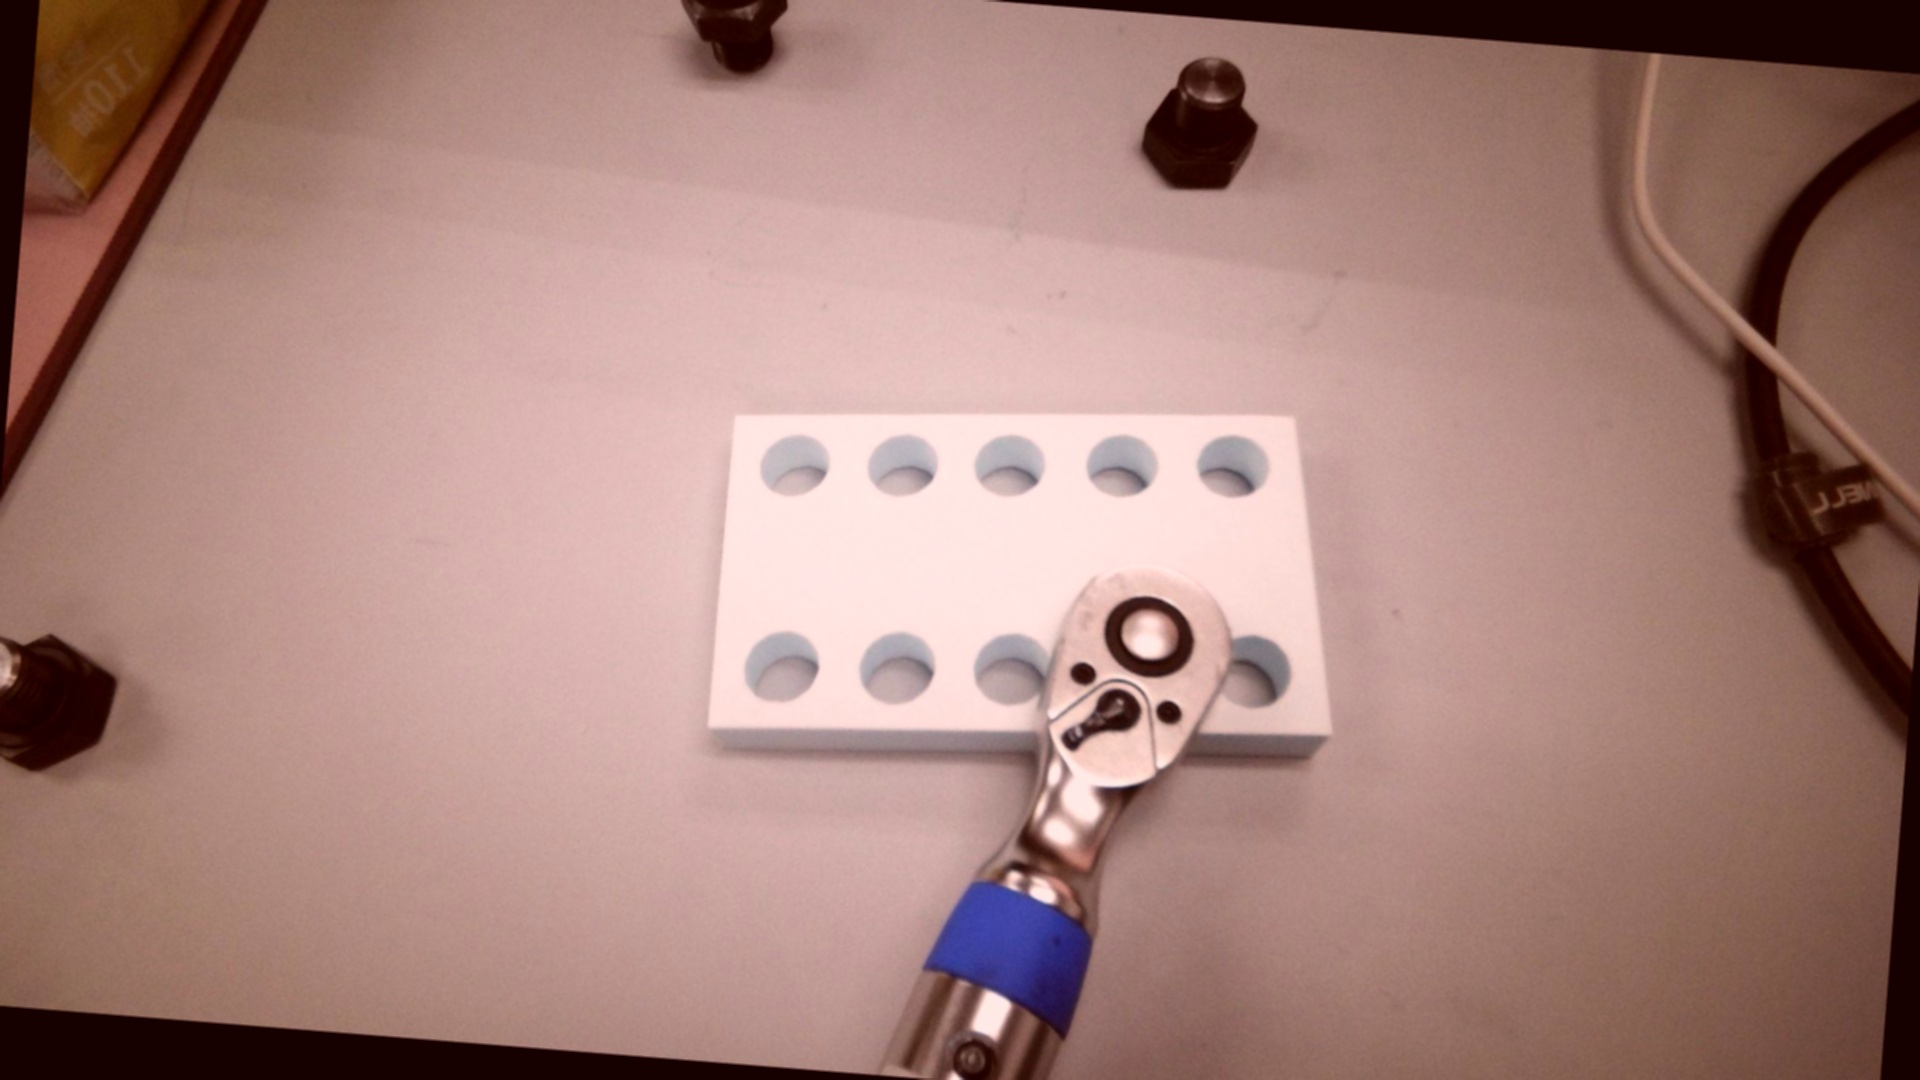hole: (853, 629, 938, 709), (968, 630, 1051, 709), (740, 628, 820, 705), (1218, 633, 1295, 713), (971, 429, 1048, 500), (1193, 433, 1273, 502), (865, 430, 942, 498), (1084, 433, 1162, 498), (756, 431, 831, 497)
obj: (702, 371, 1357, 798)
wrench: (1098, 592, 1197, 680)
